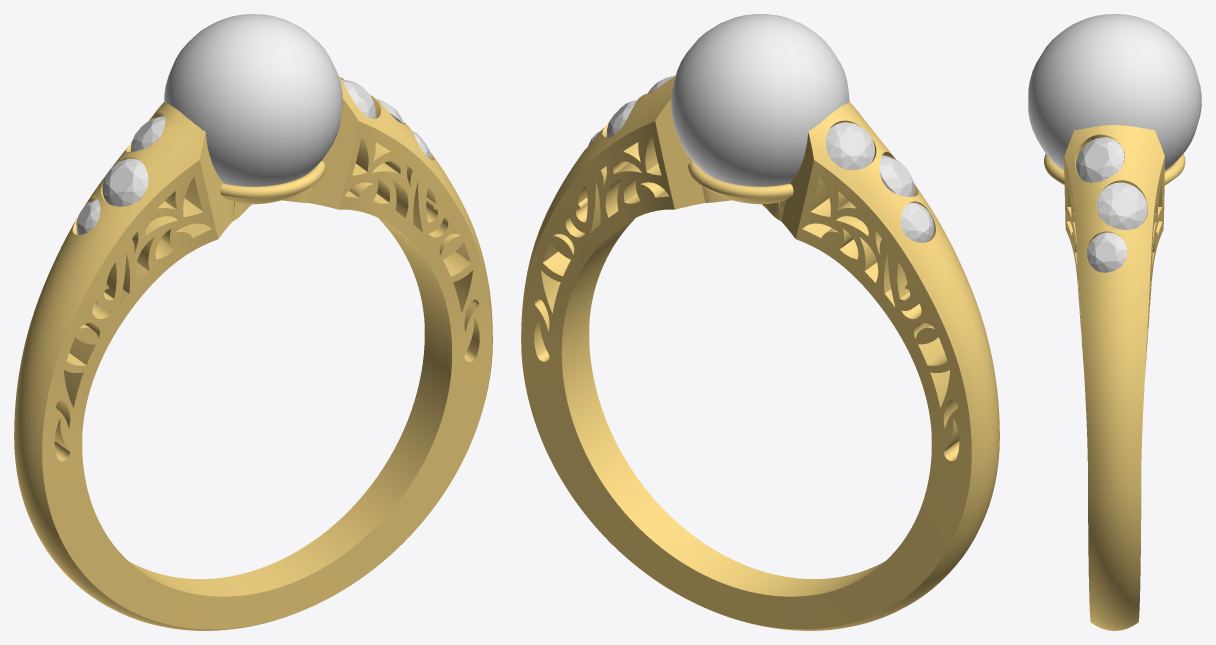
File: DJ sarah YG.glb
3 renders of one model, left to right at view 1: azimuth 30°, elevation 25°; view 2: azimuth 150°, elevation 25°; view 3: azimuth 270°, elevation 25°, orthographic. The views are drawn at different scales.
Parts seen in each view (by area): view 1: DJ YG for 3d model, DJ pearl for 3d model, DJ dia for 3d model.005, DJ dia for 3d model.004, DJ dia for 3d model.001; view 2: DJ YG for 3d model, DJ pearl for 3d model, DJ dia for 3d model.004, DJ dia for 3d model.003, DJ dia for 3d model.005; view 3: DJ YG for 3d model, DJ pearl for 3d model, DJ dia for 3d model.002, DJ dia for 3d model.001, DJ dia for 3d model.
Part boxes in pixels (left/top/right/bottom): DJ YG for 3d model: left=14, top=76, right=492, bottom=630; DJ pearl for 3d model: left=164, top=14, right=342, bottom=186; DJ dia for 3d model.005: left=102, top=158, right=148, bottom=206; DJ dia for 3d model.004: left=130, top=116, right=165, bottom=151; DJ dia for 3d model.001: left=342, top=79, right=376, bottom=118; DJ YG for 3d model: left=521, top=76, right=999, bottom=630; DJ pearl for 3d model: left=671, top=14, right=849, bottom=186; DJ dia for 3d model.004: left=826, top=122, right=874, bottom=170; DJ dia for 3d model.003: left=900, top=203, right=934, bottom=242; DJ dia for 3d model.005: left=879, top=155, right=914, bottom=196; DJ YG for 3d model: left=1044, top=125, right=1185, bottom=630; DJ pearl for 3d model: left=1028, top=14, right=1201, bottom=170; DJ dia for 3d model.002: left=1097, top=182, right=1147, bottom=229; DJ dia for 3d model.001: left=1076, top=137, right=1124, bottom=182; DJ dia for 3d model: left=1087, top=232, right=1127, bottom=272.
Size of the model in its own units: 22.76 by 27.8 by 7.5.
